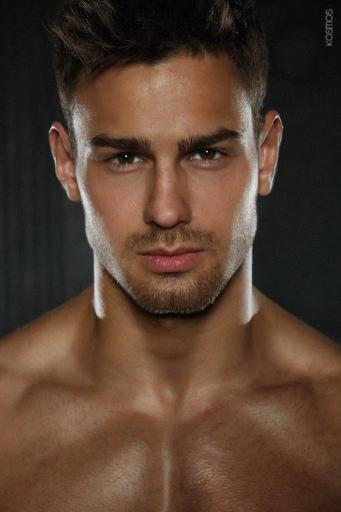left_eye: (185, 146, 236, 168)
left_lip_corner: (192, 241, 211, 262)
right_eye: (100, 151, 151, 173)
right_lip_corner: (134, 245, 151, 263)
